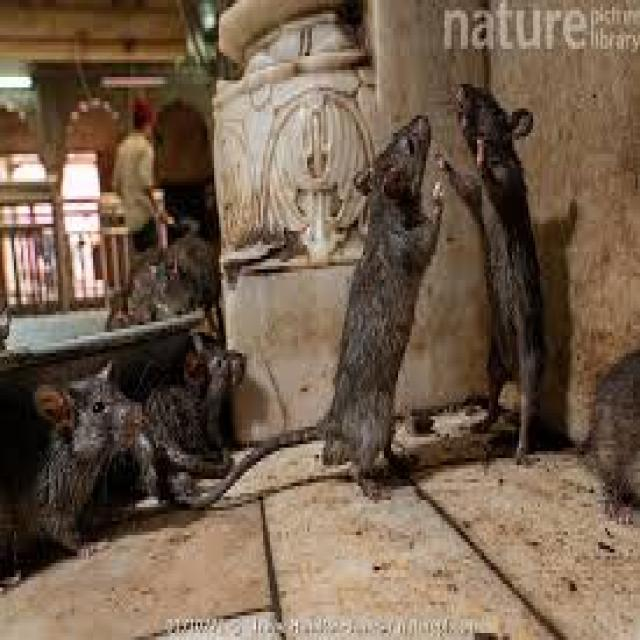Rat: (361, 119, 469, 434), (16, 364, 156, 537)
